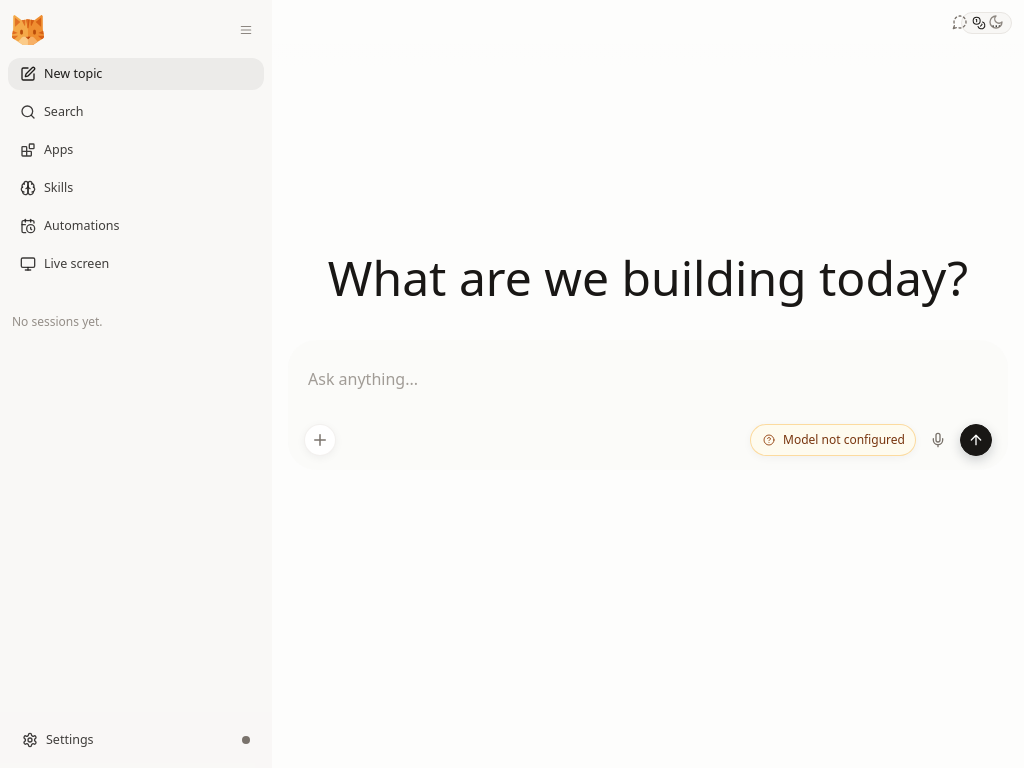
Test case: App layout › uses one main landmark and a page heading in desktop settings
Click the button "Settings" at (118, 740), box [10,724,226,756]
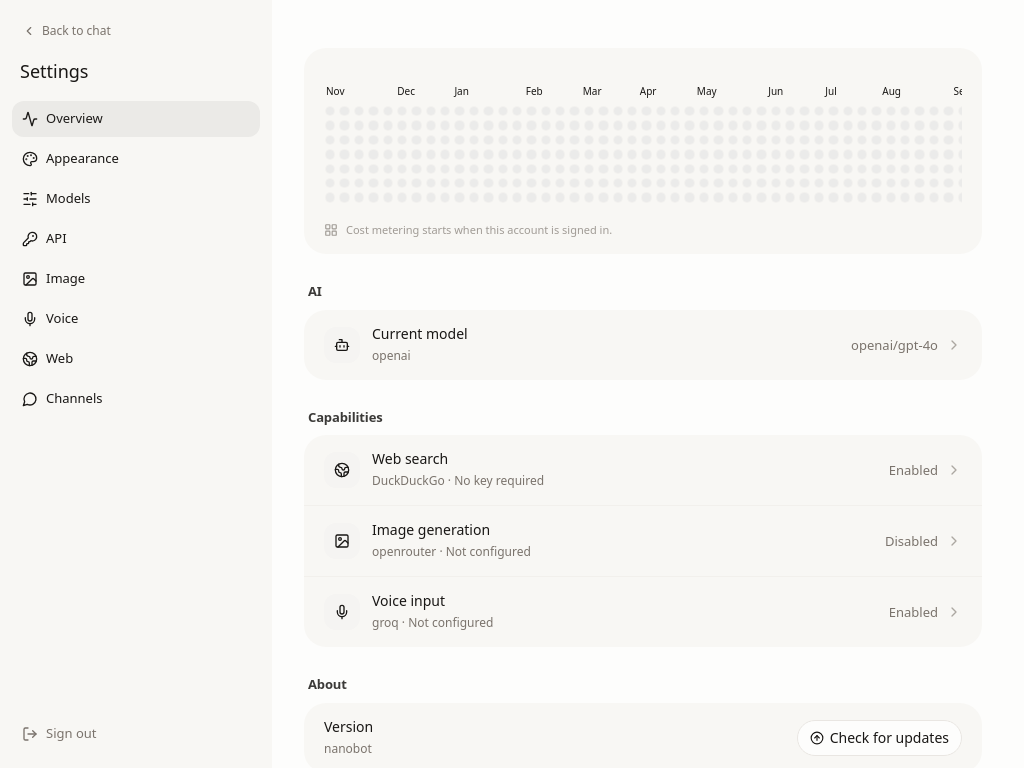
Expected: the heading "Settings" is shown, [20,59,88,83]
Expected: the navigation bar named "Settings sections" is shown, [12,101,260,417]
